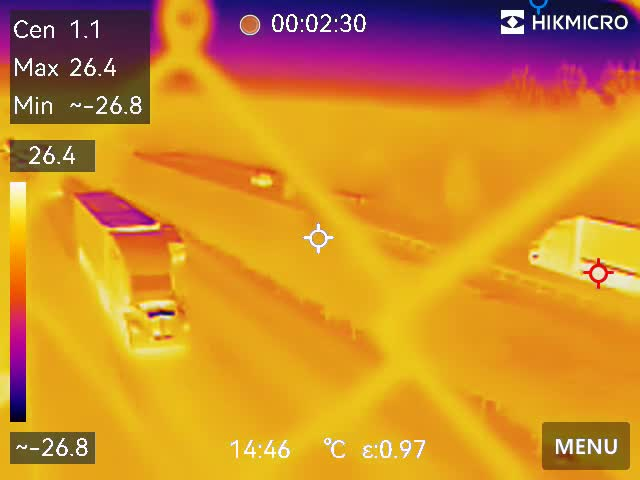heavyTruck: (65, 183, 196, 355), (531, 200, 640, 292)
